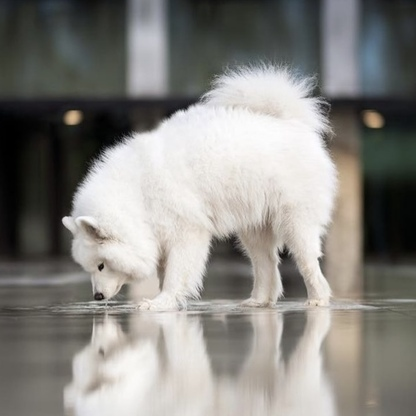samoyed: (58, 55, 347, 314)
